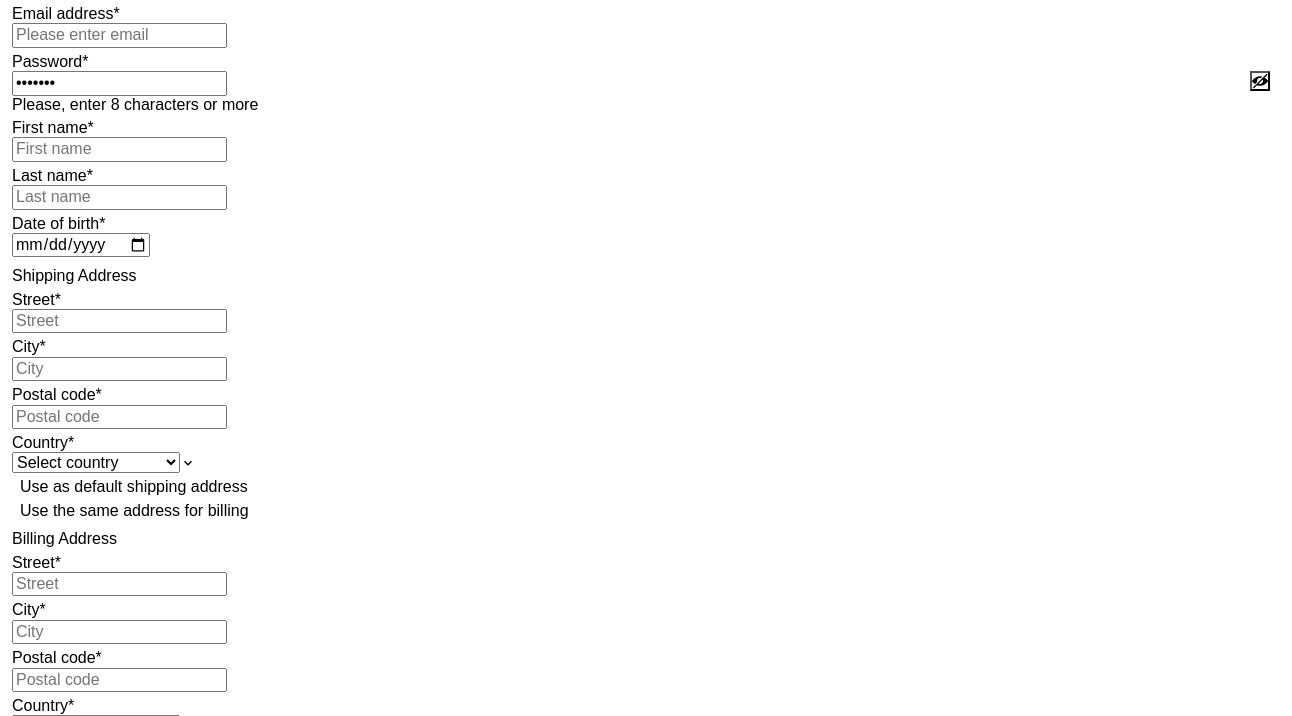
SignUpForm › should say if no password is entered
The image size is (1292, 716).
Clear the password field with placeholder "Create a password" at (120, 83), box [12, 71, 227, 96]
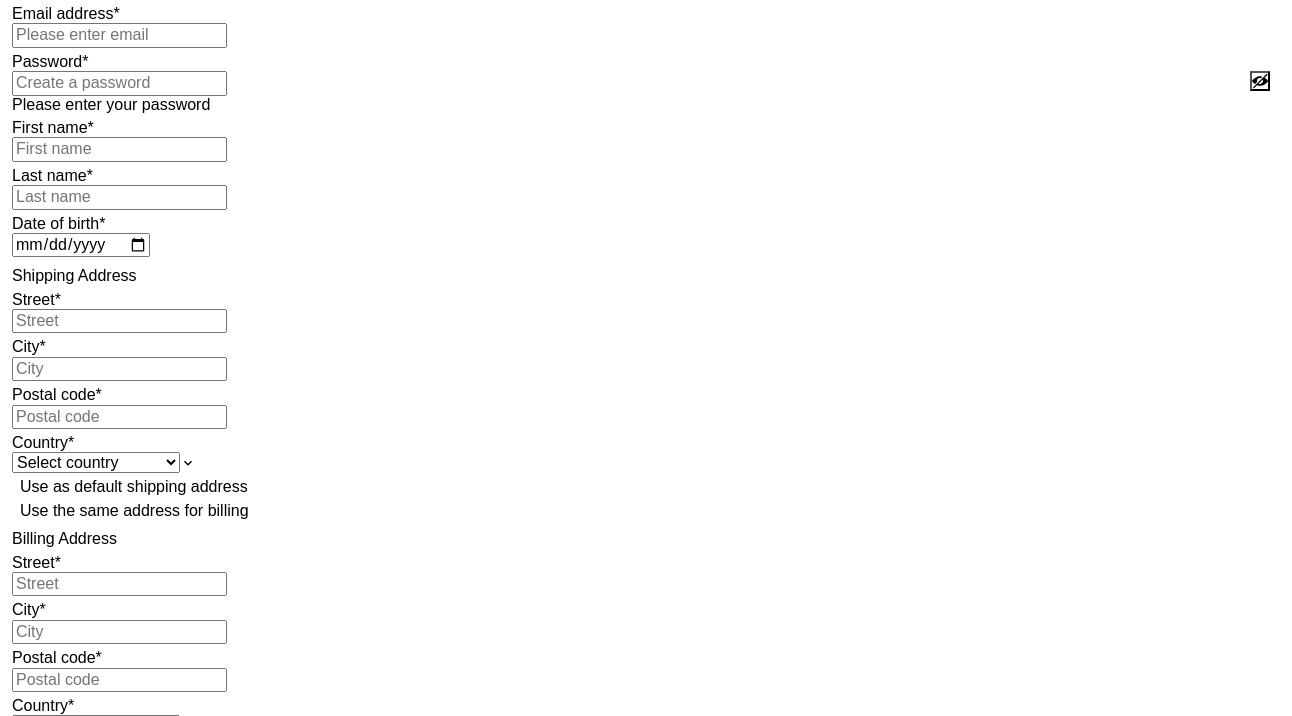
Now the text "Please enter your password" is shown, box [12, 96, 210, 113]
